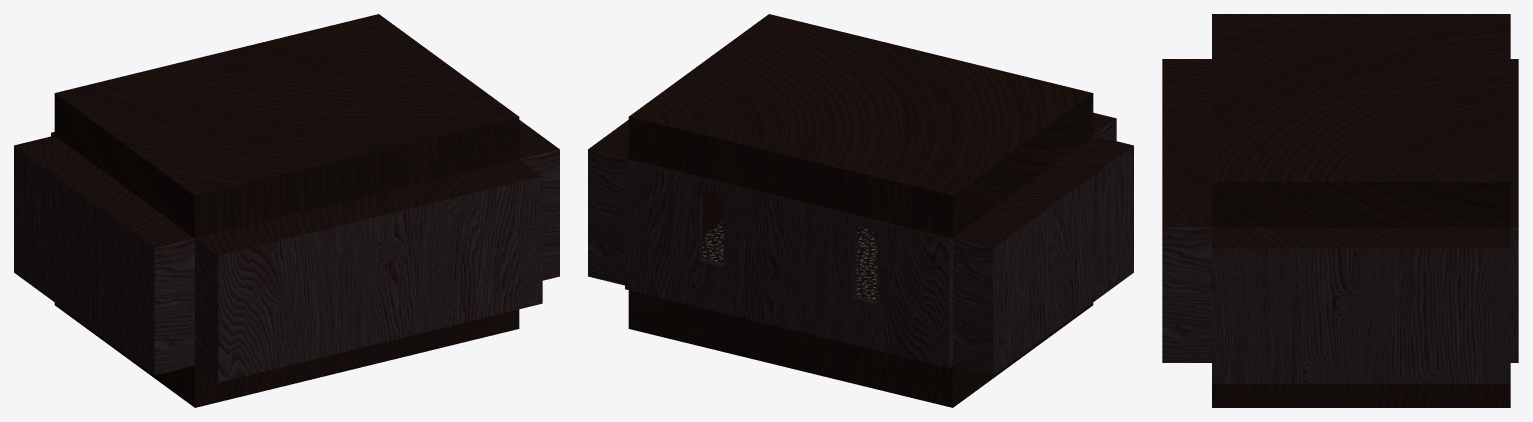
Rendered from Room.fbx.
3 views of the same model, side by side, from view 1: azimuth 30°, elevation 25°; view 2: azimuth 150°, elevation 25°; view 3: azimuth 270°, elevation 25° (orthographic). The views are drawn at different scales.
Visible parts, largest first — view 1: Poker_Room, Ceiling; view 2: Poker_Room, Ceiling; view 3: Poker_Room, Ceiling.
Part boxes in pixels (x1,y1,x2,y2): Poker_Room: (14,120,559,407); Ceiling: (54,14,519,238); Poker_Room: (588,112,1133,407); Ceiling: (628,14,1093,238); Poker_Room: (1162,59,1518,407); Ceiling: (1212,14,1510,227).
Bounding box in the file's own units: 1000 × 500 × 716.
